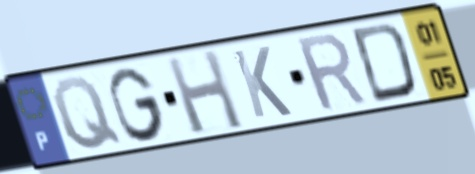D: (348, 19, 420, 106)
G: (106, 65, 169, 145)
H: (161, 46, 248, 137)
K: (229, 43, 296, 121)
Q: (49, 74, 126, 153)
R: (292, 30, 372, 116)
